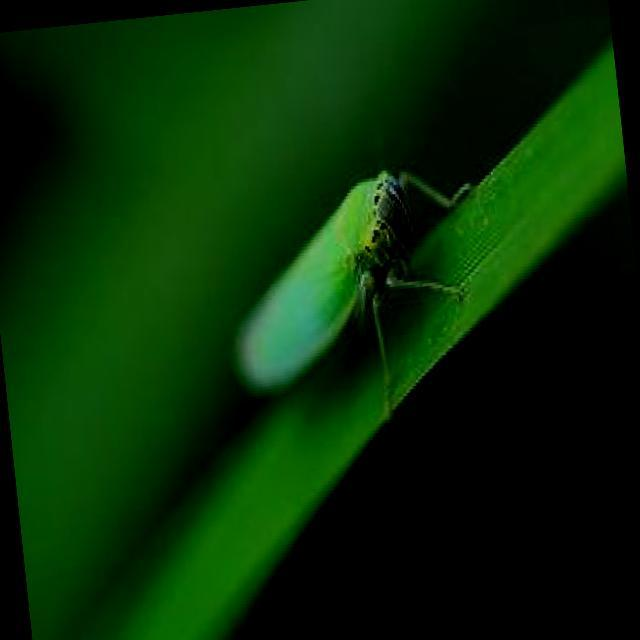green leaf hopper: (239, 171, 471, 414)
